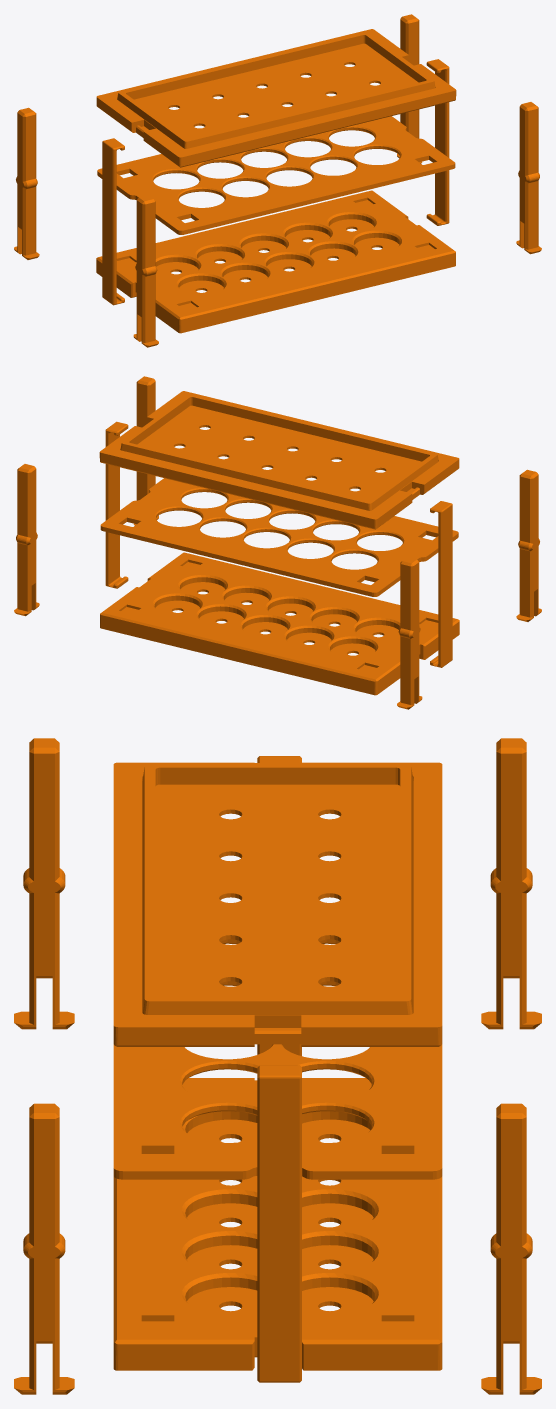
File: Container_18650.glb
3 views of the same model, one above another, from view 1: azimuth 30°, elevation 25°; view 2: azimuth 150°, elevation 25°; view 3: azimuth 270°, elevation 25° (orthographic). The views are drawn at different scales.
Visible parts, largest first — view 1: Container_18650; view 2: Container_18650; view 3: Container_18650.
Part boxes in pixels (x1=…): Container_18650: x1=14, y1=14, x2=541, y2=347; Container_18650: x1=14, y1=376, x2=541, y2=709; Container_18650: x1=14, y1=738, x2=541, y2=1394.
Size of the model in its own units: 192 by 84.16 by 113.
